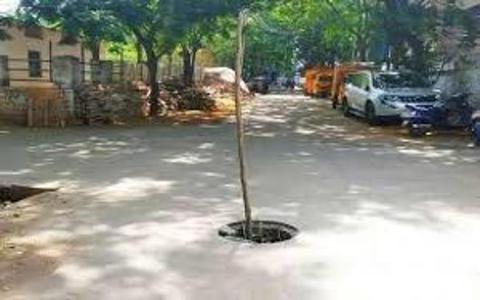open manhole: (212, 217, 312, 252)
